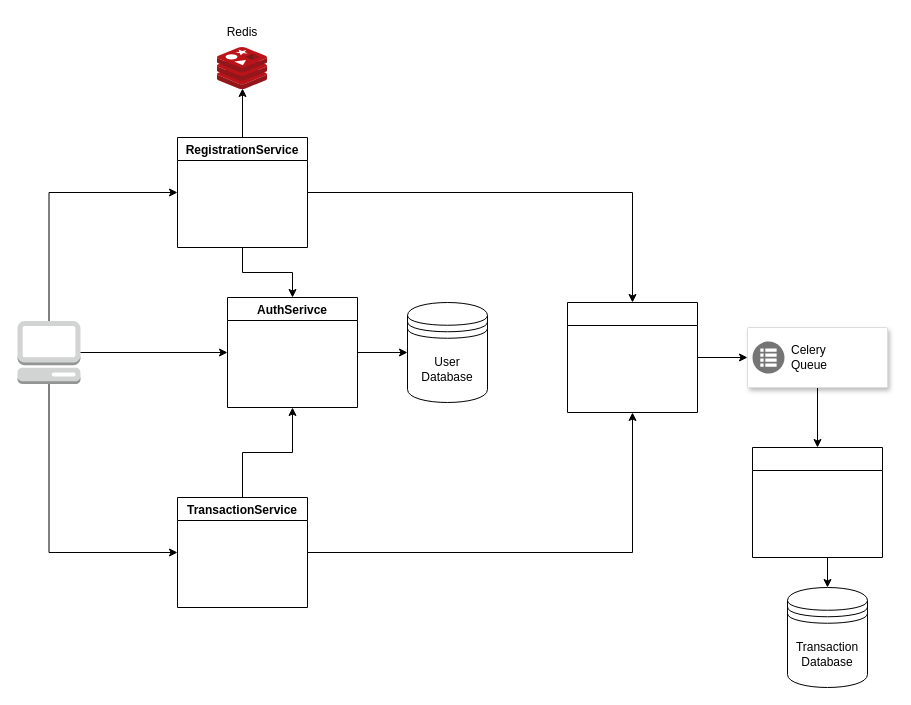
Image size: 911x705. Some labels were removed from this diagram. Here are the shapes that lost their labels. From the top down, the centre of each, then its label:
At point (632, 357): "TaskingService".
At point (817, 502): "DataManagement".
